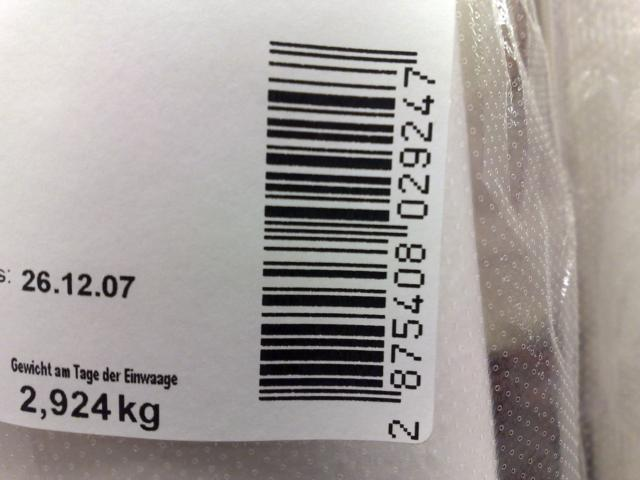Barkod: (255, 38, 400, 406)
